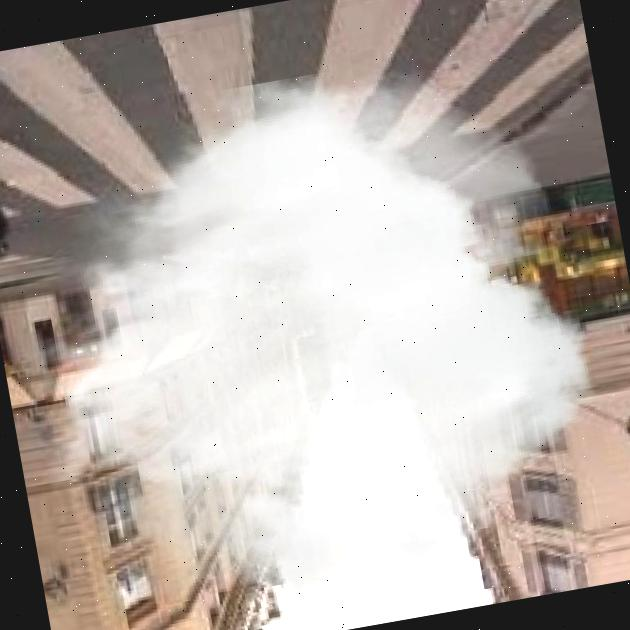smoke: (0, 35, 623, 630)
